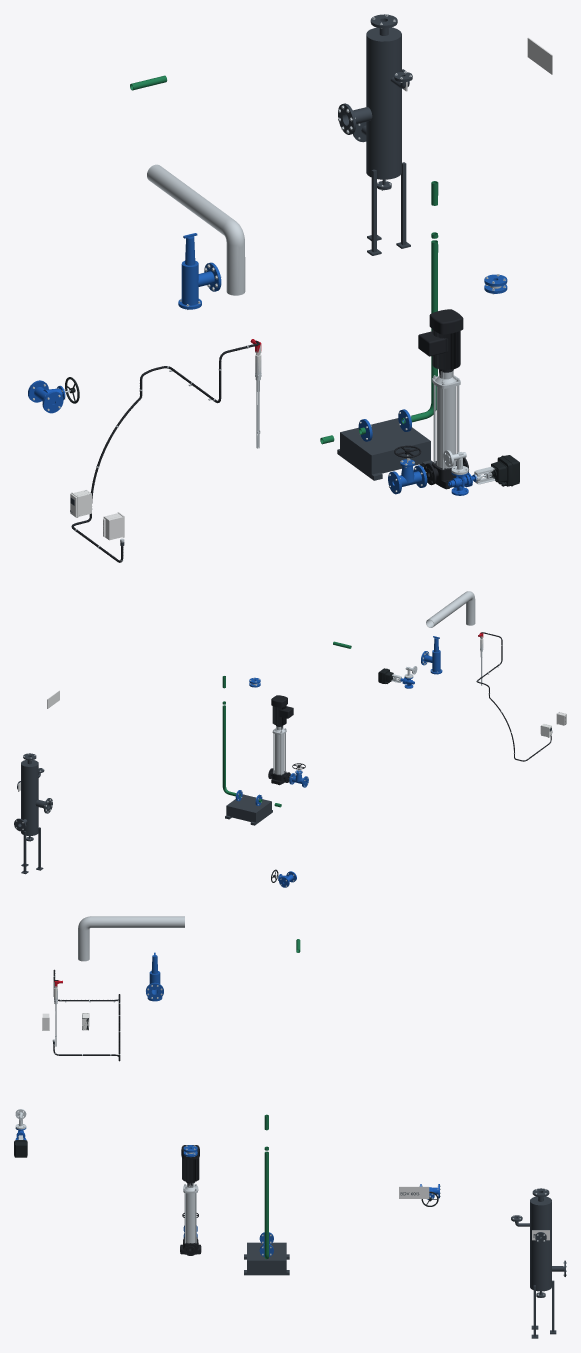
The picture shows the model from 3 angles, top to bottom: view 1: azimuth 30°, elevation 25°; view 2: azimuth 150°, elevation 25°; view 3: azimuth 270°, elevation 25°; orthographic projection. The views are drawn at different scales.
Visible parts, largest first — view 1: separator_fv8 / dark, pump_branch_2 / dark, steam_rise / steel, pump_1 CAD solid 15, safety_2 / blue, bcv925 / bcv925_0.npz, pump_1 CAD solid 2, pump_branch_2 / green, wiring_lp400 / black, drain_isolation_2 / drain_isolation_2_0.npz, pump_in_valve_1 / blue, gpz_bypass / steel; view 2: separator_fv8 / dark, pump_branch_2 / dark, steam_rise / steel, pump_1 CAD solid 15, pump_branch_2 / green, pump_1 CAD solid 2, safety_2 / blue, bcv925 / bcv925_0.npz; view 3: separator_fv8 / dark, pump_branch_2 / dark, steam_rise / steel, pump_branch_2 / green, pump_1 CAD solid 15, safety_2 / blue.
Boxes of the visible parts, x1=… form: separator_fv8 / dark: x1=338, y1=14, x2=412, y2=255; pump_branch_2 / dark: x1=337, y1=418, x2=432, y2=480; steam_rise / steel: x1=180, y1=189, x2=245, y2=295; pump_1 CAD solid 15: x1=418, y1=309, x2=463, y2=371; safety_2 / blue: x1=178, y1=233, x2=221, y2=309; bcv925 / bcv925_0.npz: x1=448, y1=455, x2=519, y2=495; pump_1 CAD solid 2: x1=436, y1=386, x2=456, y2=468; pump_branch_2 / green: x1=320, y1=181, x2=438, y2=444; wiring_lp400 / black: x1=71, y1=340, x2=259, y2=562; drain_isolation_2 / drain_isolation_2_0.npz: x1=28, y1=377, x2=79, y2=413; pump_in_valve_1 / blue: x1=388, y1=459, x2=427, y2=494; gpz_bypass / steel: x1=147, y1=164, x2=192, y2=203; separator_fv8 / dark: x1=14, y1=753, x2=52, y2=874; pump_branch_2 / dark: x1=225, y1=794, x2=272, y2=825; steam_rise / steel: x1=445, y1=591, x2=475, y2=625; pump_1 CAD solid 15: x1=271, y1=695, x2=293, y2=726; pump_branch_2 / green: x1=222, y1=676, x2=281, y2=807; pump_1 CAD solid 2: x1=274, y1=734, x2=284, y2=774; safety_2 / blue: x1=421, y1=636, x2=442, y2=674; bcv925 / bcv925_0.npz: x1=378, y1=668, x2=414, y2=688; separator_fv8 / dark: x1=511, y1=1188, x2=565, y2=1338; pump_branch_2 / dark: x1=244, y1=1242, x2=289, y2=1275; steam_rise / steel: x1=78, y1=916, x2=143, y2=961; pump_branch_2 / green: x1=264, y1=1114, x2=268, y2=1259; pump_1 CAD solid 15: x1=181, y1=1145, x2=199, y2=1182; safety_2 / blue: x1=146, y1=952, x2=163, y2=1001.
Bounding box in the file's own units: 5.19 × 2.82 × 5.45.
